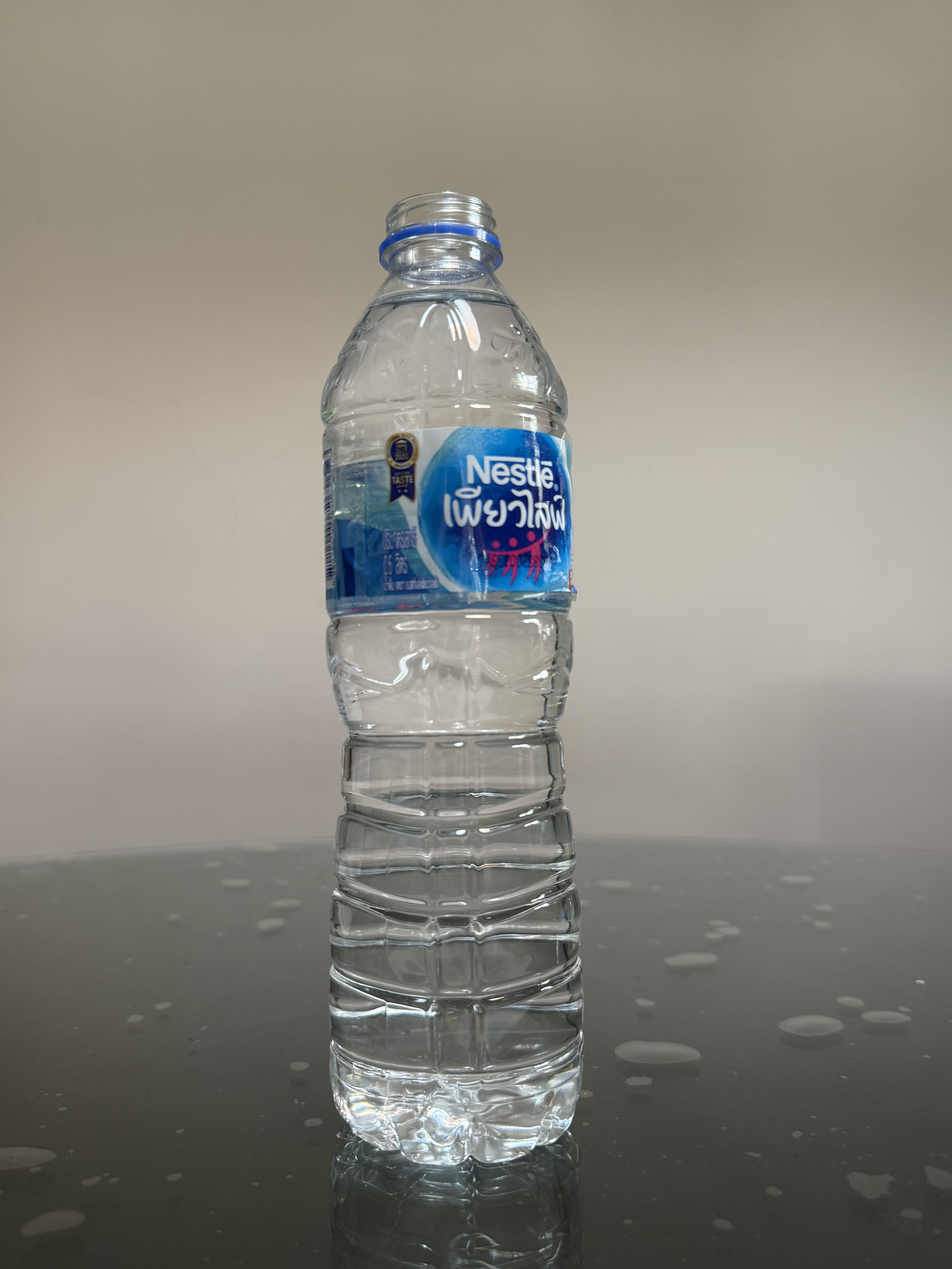no_cap: (377, 190, 504, 264)
